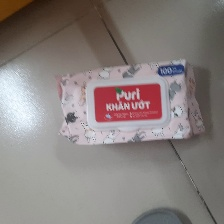Puri hong: (54, 57, 205, 148)
